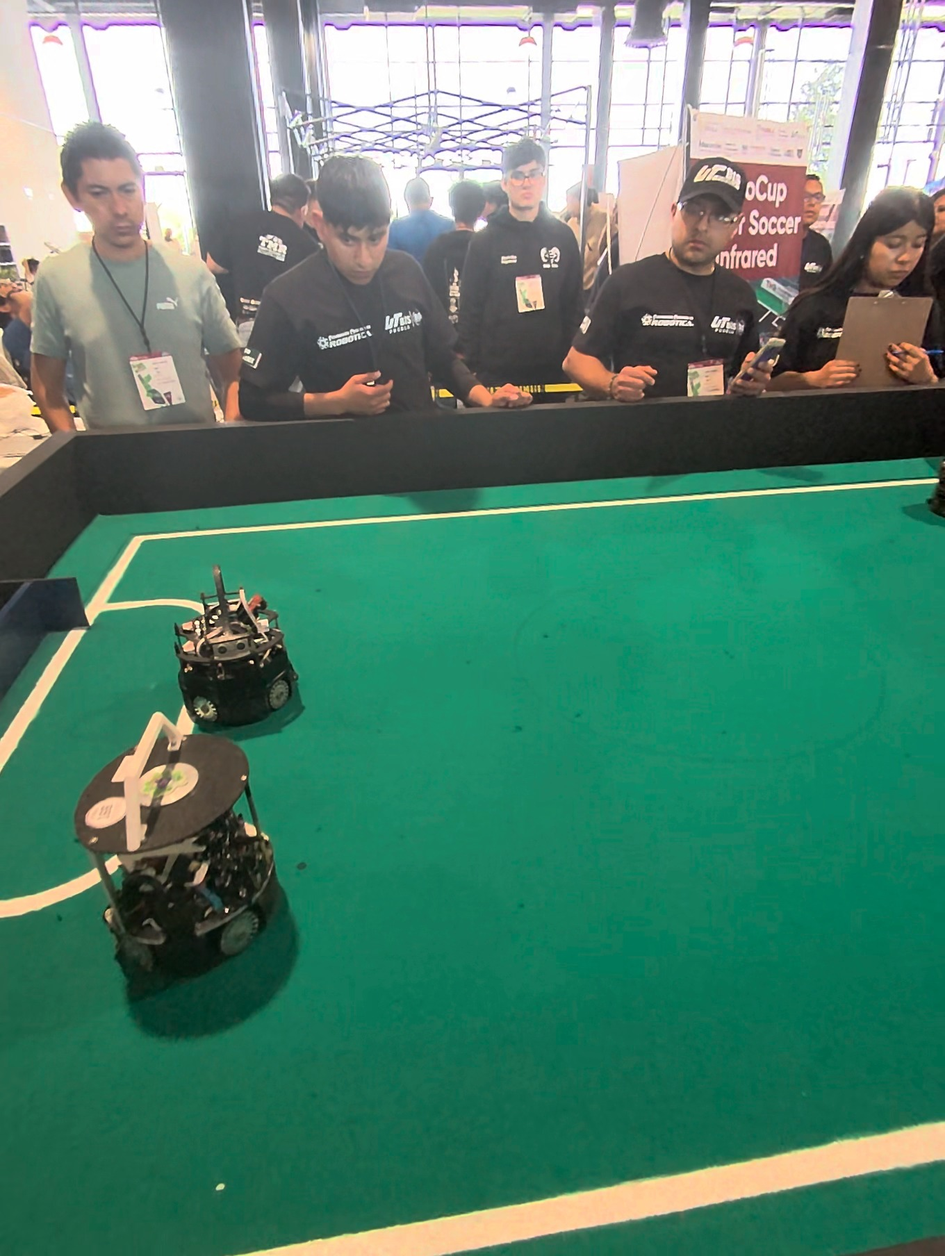Robot: (76, 687, 289, 1036), (165, 565, 301, 736)
